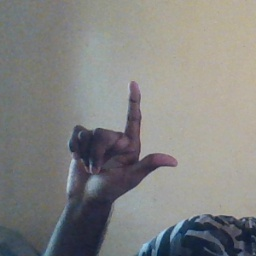L: (65, 77, 180, 207)
